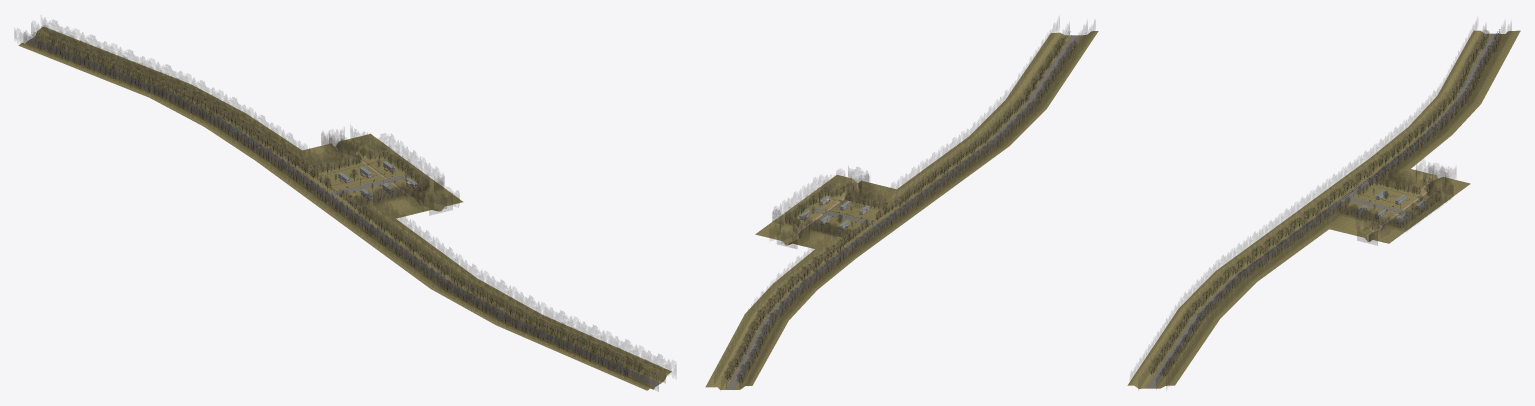
The model's file is trailer_park.glb.
3 renders of one model, left to right at view 1: azimuth 30°, elevation 25°; view 2: azimuth 150°, elevation 25°; view 3: azimuth 330°, elevation 25°, orthographic. The views are drawn at different scales.
Parts seen in each view (by area): view 1: Terrain.002, Terrain, Terrain.001, Background.008, Background.010, Background.011, Background.003, Background.004, Background.005, Background.006, Background.007, Background.009 (+3 smaller); view 2: Terrain.002, Terrain, Terrain.001, Background.003, Background.004, Background.010, Background.008, Background.011, Background.006, Background.005, Background.007, Background.002 (+3 smaller); view 3: Terrain.002, Terrain, Terrain.001, Background.004, Background.003, Background.010, Background.011, Background.009, Background.006, Background.007, Background.001, Background.008 (+3 smaller).
Boxes of the visible parts, x1,y1,x2,y2 form: Terrain.002: [349, 218, 671, 390]; Terrain: [256, 134, 463, 230]; Terrain.001: [18, 26, 301, 161]; Background.008: [361, 218, 658, 391]; Background.010: [391, 208, 676, 375]; Background.011: [352, 217, 649, 387]; Background.003: [295, 126, 459, 217]; Background.004: [285, 127, 452, 216]; Background.005: [23, 31, 265, 158]; Background.006: [41, 17, 294, 150]; Background.007: [14, 28, 257, 155]; Background.009: [380, 212, 665, 382]; Terrain.002: [897, 31, 1098, 199]; Terrain: [755, 175, 937, 259]; Terrain.001: [705, 249, 855, 389]; Background.003: [769, 169, 900, 248]; Background.004: [777, 166, 910, 248]; Background.010: [902, 17, 1059, 188]; Background.008: [927, 20, 1087, 197]; Background.011: [936, 20, 1095, 195]; Background.006: [714, 239, 820, 383]; Background.005: [739, 249, 843, 389]; Background.007: [748, 248, 851, 384]; Background.002: [844, 187, 926, 258]; Terrain.002: [1127, 218, 1328, 388]; Terrain: [1288, 158, 1470, 243]; Terrain.001: [1370, 30, 1520, 168]; Background.004: [1315, 157, 1448, 245]; Background.003: [1325, 157, 1456, 236]; Background.010: [1166, 217, 1323, 387]; Background.011: [1130, 209, 1289, 382]; Background.009: [1156, 217, 1314, 389]; Background.006: [1405, 22, 1511, 165]; Background.007: [1374, 18, 1477, 154]; Background.001: [1398, 21, 1505, 166]; Background.008: [1138, 214, 1298, 390].
Size of the model in its own units: 172 by 21.99 by 894.
97 materials, 95 textured.
